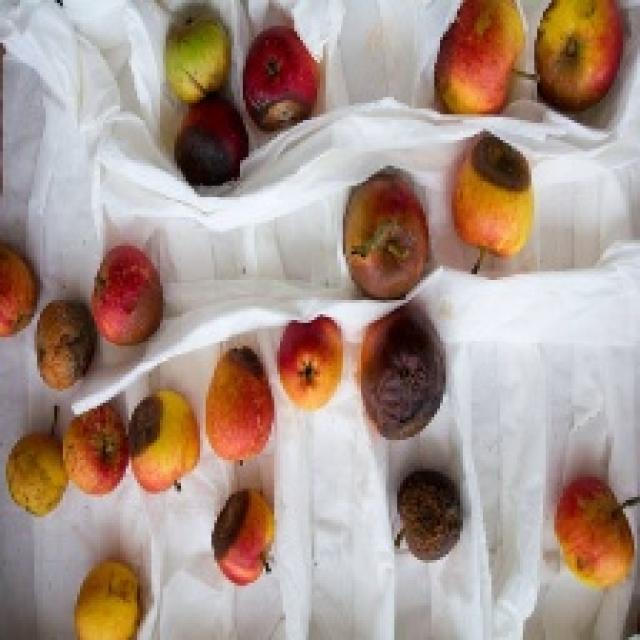rotten_apple: (359, 307, 446, 443), (346, 177, 428, 295), (457, 136, 532, 258), (242, 29, 319, 126), (94, 246, 164, 345), (132, 391, 200, 492), (395, 471, 465, 561), (178, 104, 250, 190), (213, 488, 275, 580), (5, 432, 66, 515), (36, 303, 96, 386)
